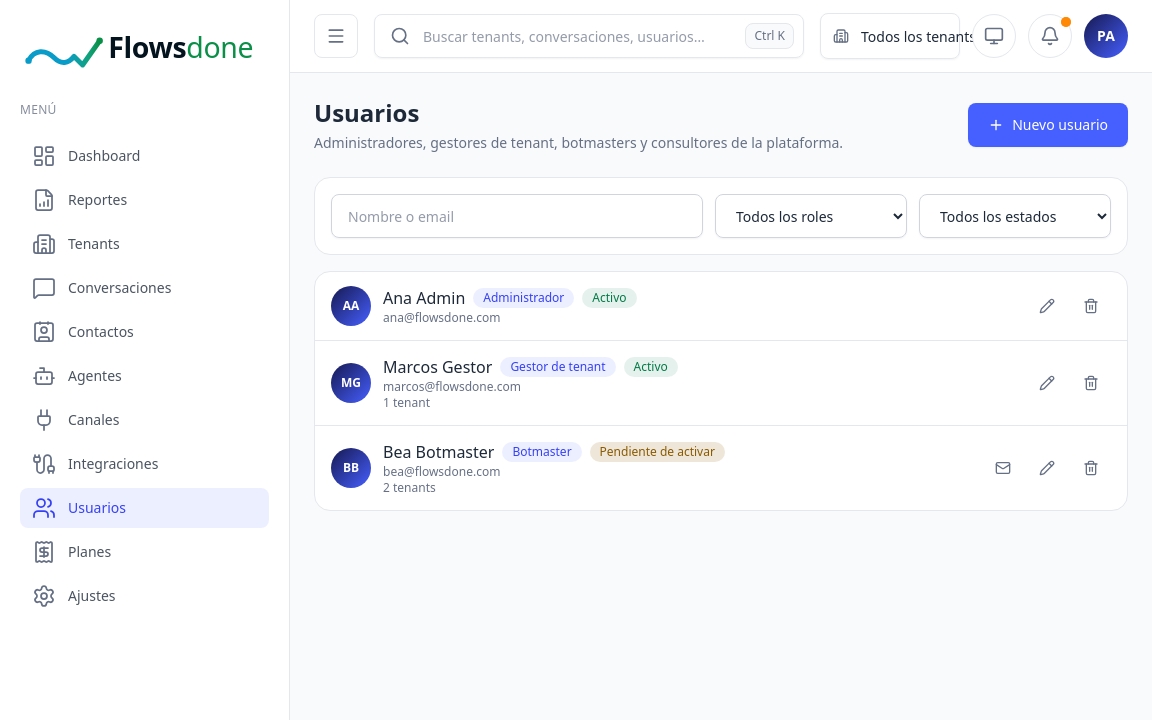
Usuarios: buscador, filtros y tenant activo › al elegir un tenant arriba solo quedan sus usuarios
Expected: the list named "Usuarios" is shown, [315,272,1127,510]
Select "Inmobiliaria Norte" in the dropdown named "Tenant activo" at x=928, y=36, box [857,14,998,58]
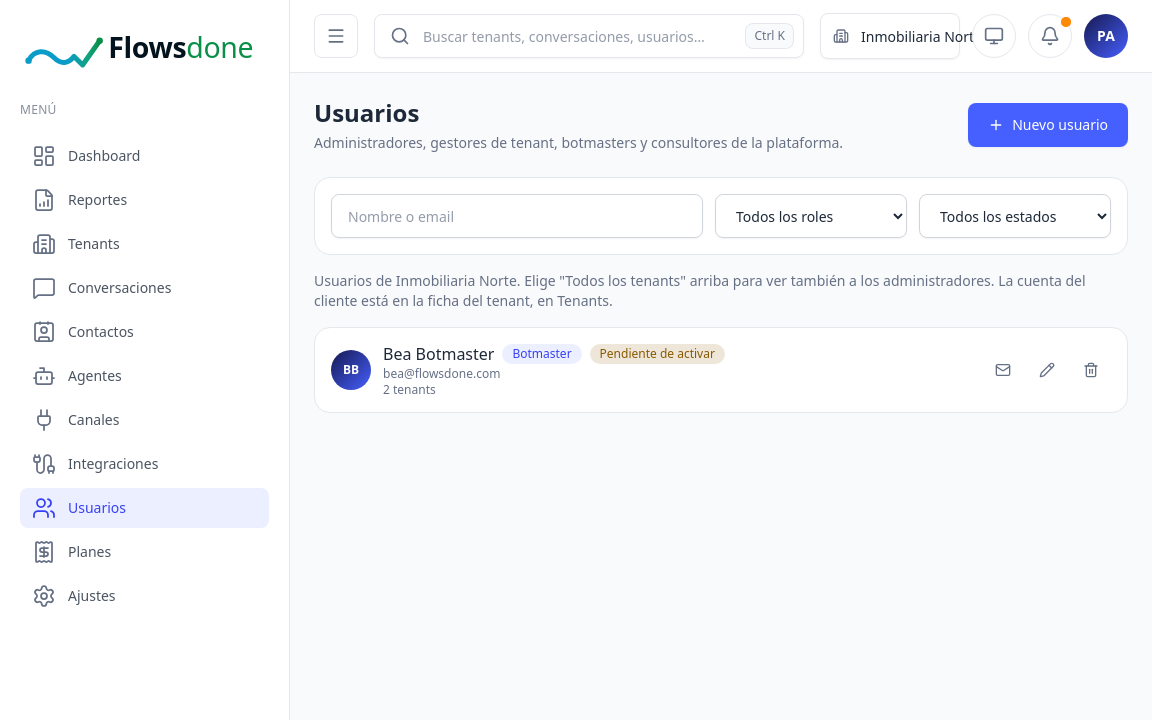
Expected: the text "Usuarios de Inmobiliaria Norte" is shown, [314,271,1086,310]
